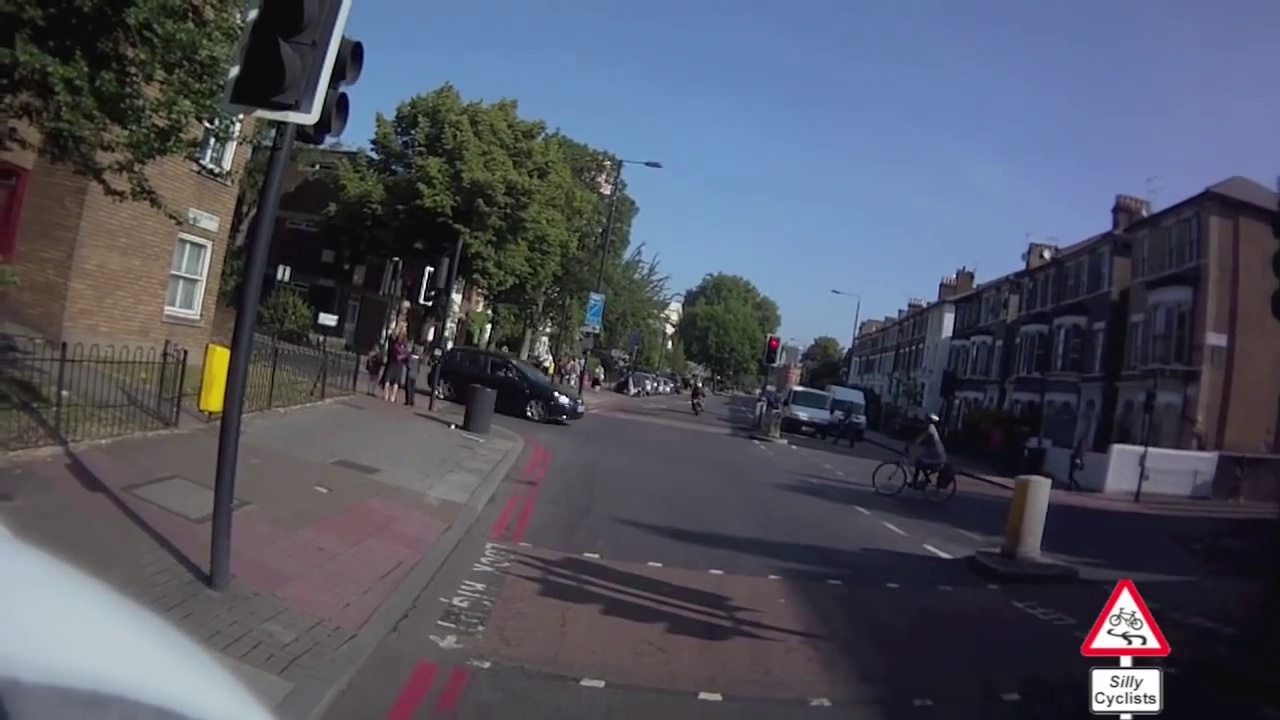cyclist_side: (878, 401, 965, 510)
